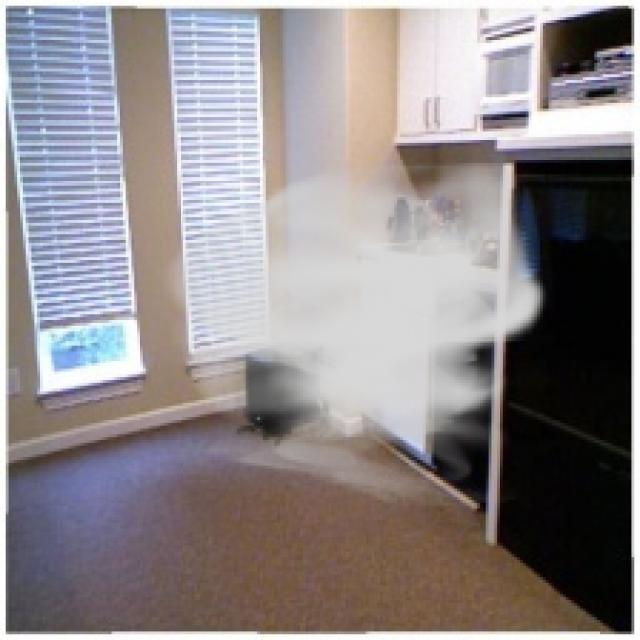smoke: (154, 152, 549, 512)
